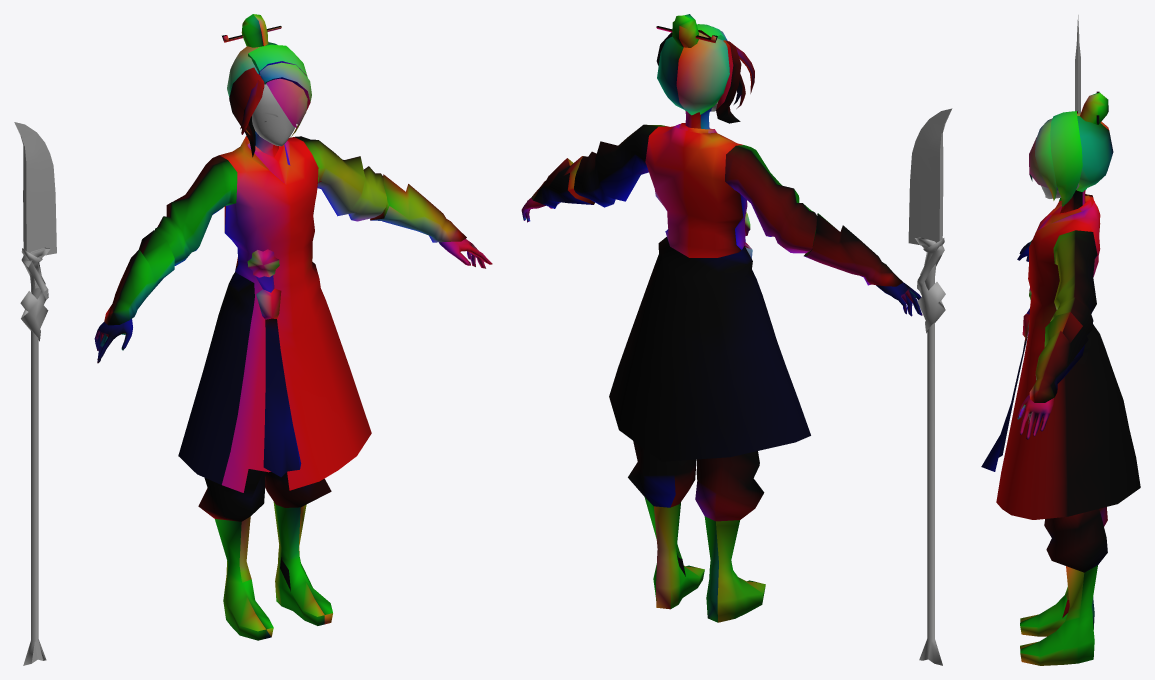
Rendered from m_001_blade_soldier_1_view.fbx.
3 renders of one model, left to right at view 1: azimuth 30°, elevation 25°; view 2: azimuth 150°, elevation 25°; view 3: azimuth 270°, elevation 25°, orthographic. The views are drawn at different scales.
Parts seen in each view (by area): view 1: m_001_blade_soldier_1; view 2: m_001_blade_soldier_1; view 3: m_001_blade_soldier_1.
Boxes of the visible parts, x1,y1,x2,y2 form: m_001_blade_soldier_1: (14,14,492,665); m_001_blade_soldier_1: (521,14,952,665); m_001_blade_soldier_1: (981,15,1140,665).
Size of the model in its own units: 186 by 234 by 61.14.
